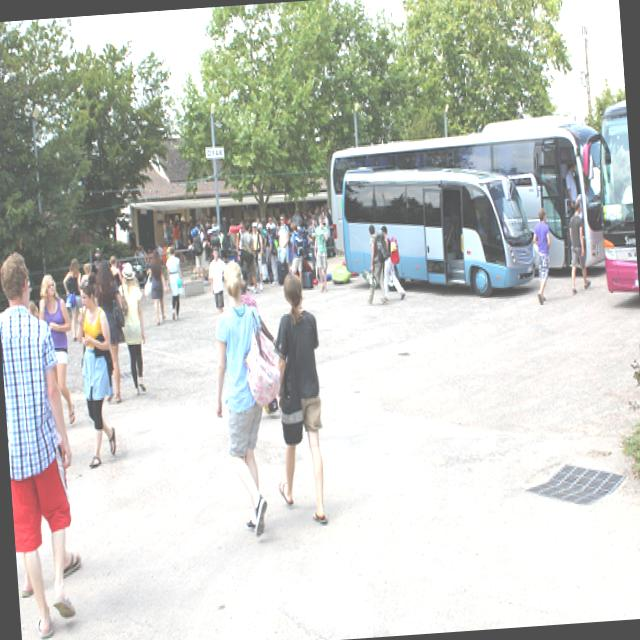Vehicle: (326, 114, 610, 286), (340, 158, 536, 302), (577, 92, 639, 296)
